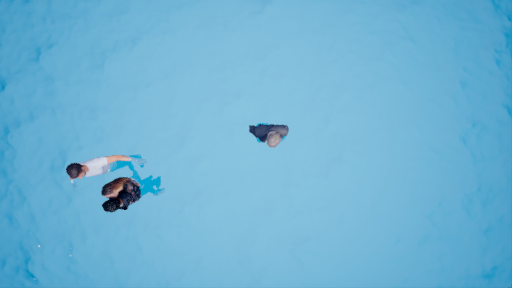person: (94, 173, 170, 212), (61, 147, 149, 179), (246, 108, 294, 154)
